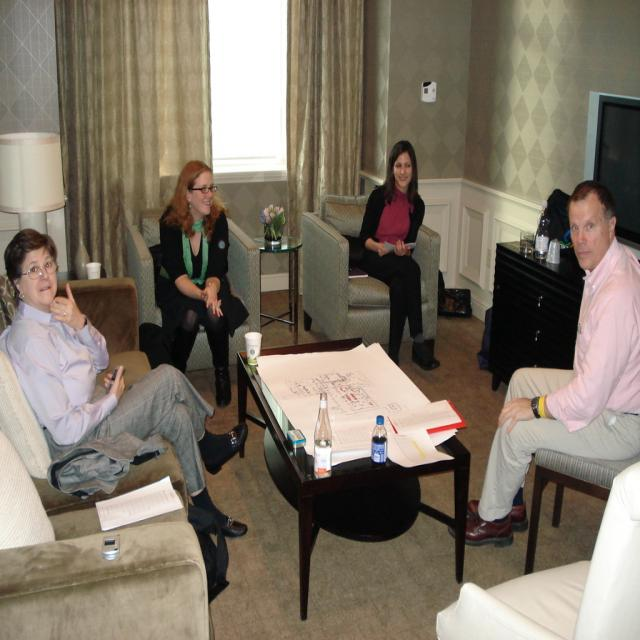chair: (437, 457, 638, 638), (522, 442, 640, 576)
desk: (235, 336, 471, 622)
person: (2, 232, 250, 564), (465, 179, 640, 545), (157, 159, 249, 407), (354, 138, 436, 372)
tv: (585, 91, 640, 249)
